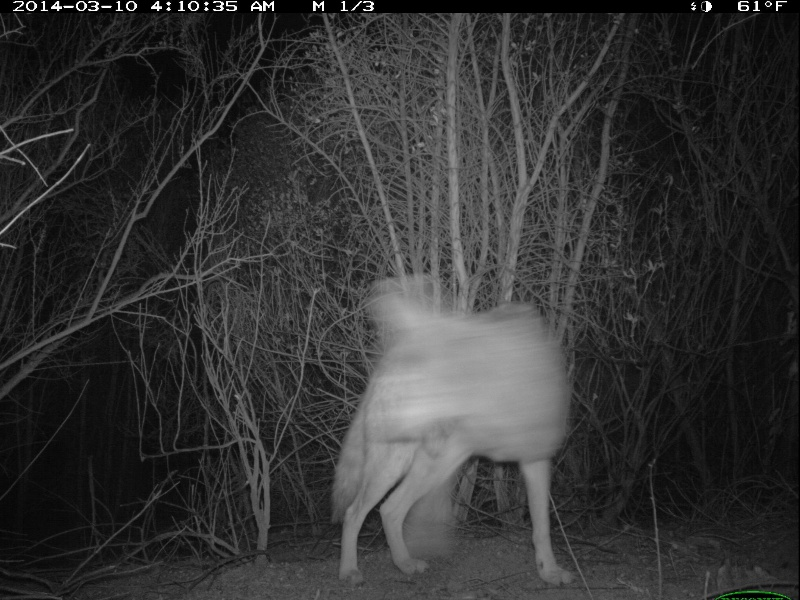coyote: (321, 273, 582, 593)
